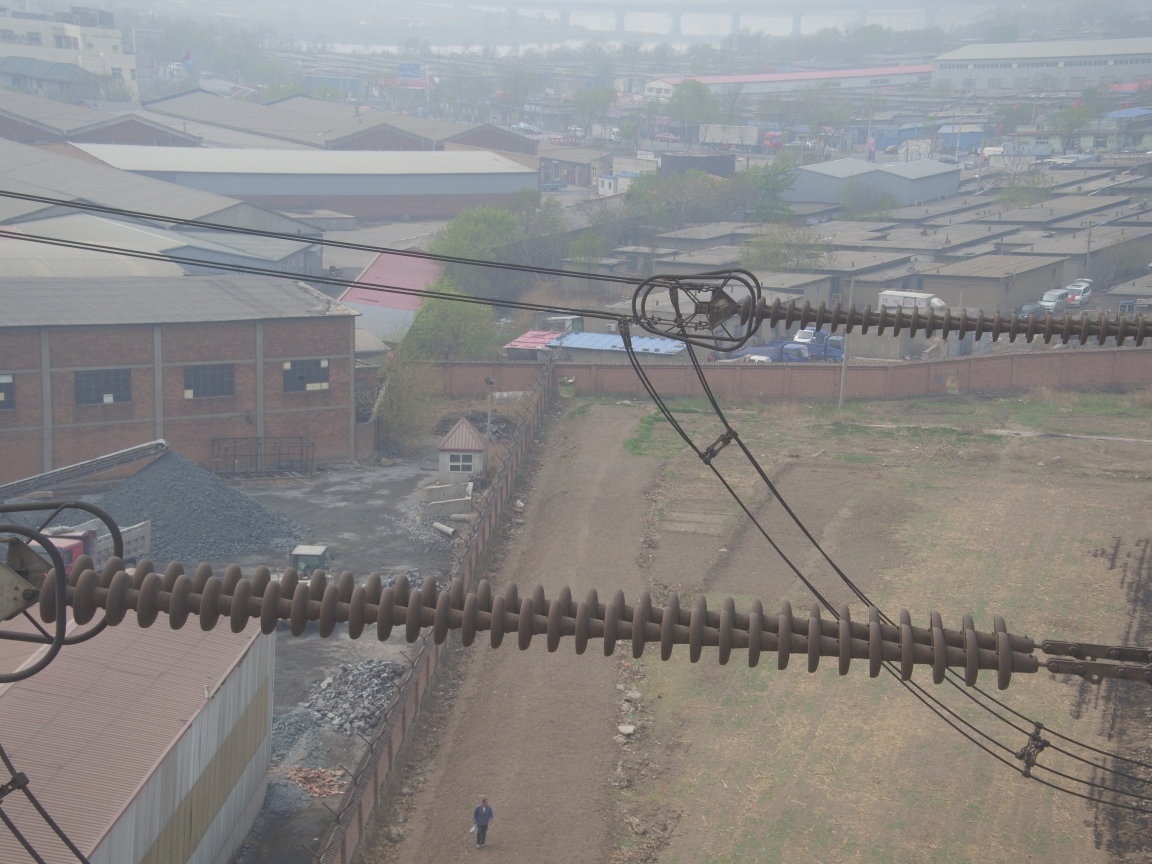insulator: (1, 543, 1140, 691), (722, 286, 1152, 345)
